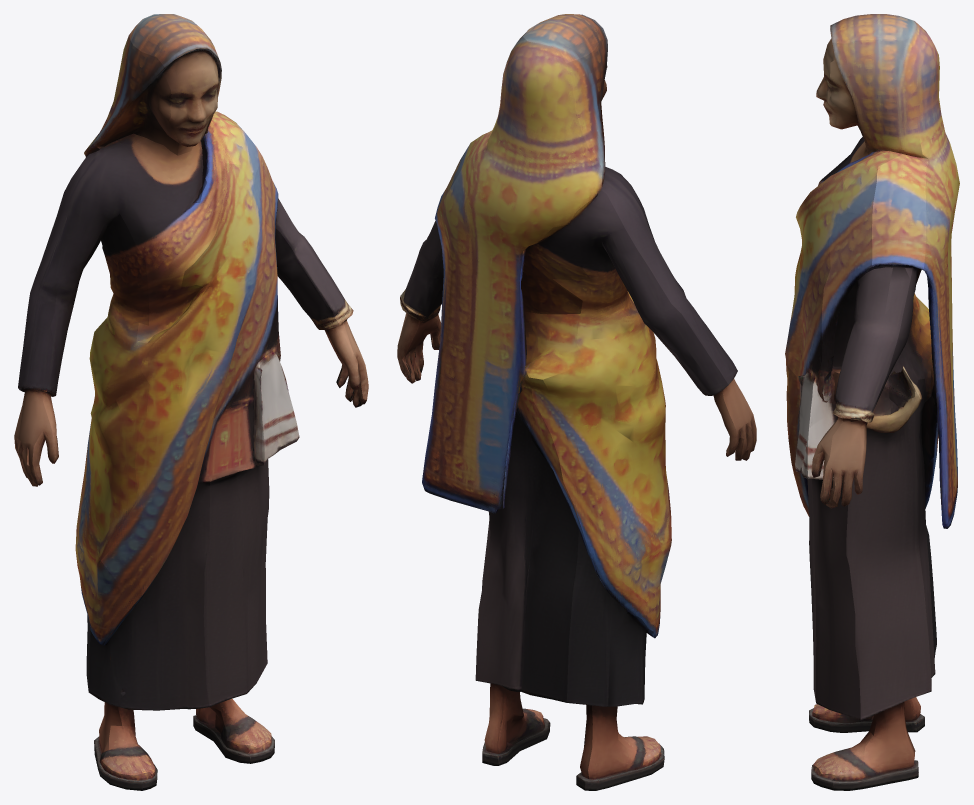
File: teewoman.glb
3 views of the same model, side by side, from view 1: azimuth 30°, elevation 25°; view 2: azimuth 150°, elevation 25°; view 3: azimuth 270°, elevation 25° (orthographic).
Visible parts, largest first — view 1: world; view 2: world; view 3: world.
Part boxes in pixels (x1=…): world: x1=14, y1=14, x2=368, y2=790; world: x1=397, y1=14, x2=756, y2=790; world: x1=785, y1=14, x2=959, y2=790.
Size of the model in its own units: 0.4888 by 0.9998 by 0.2161.
Materials: 1 (1 with a texture image).
